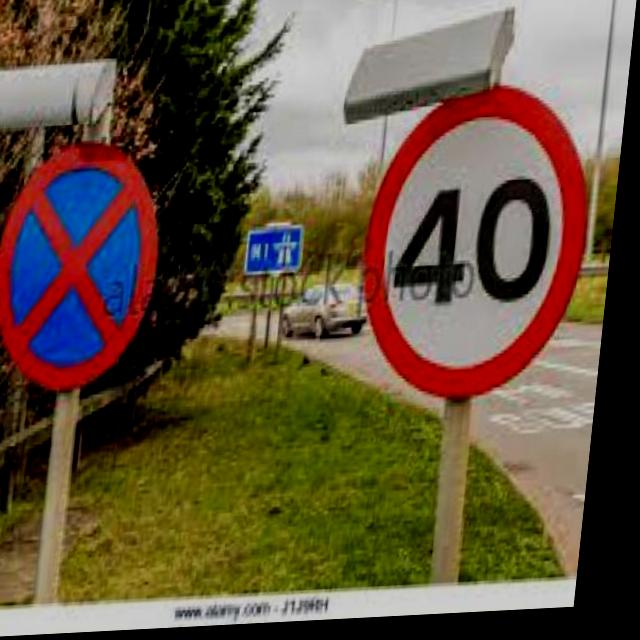limit40: (353, 76, 609, 415)
